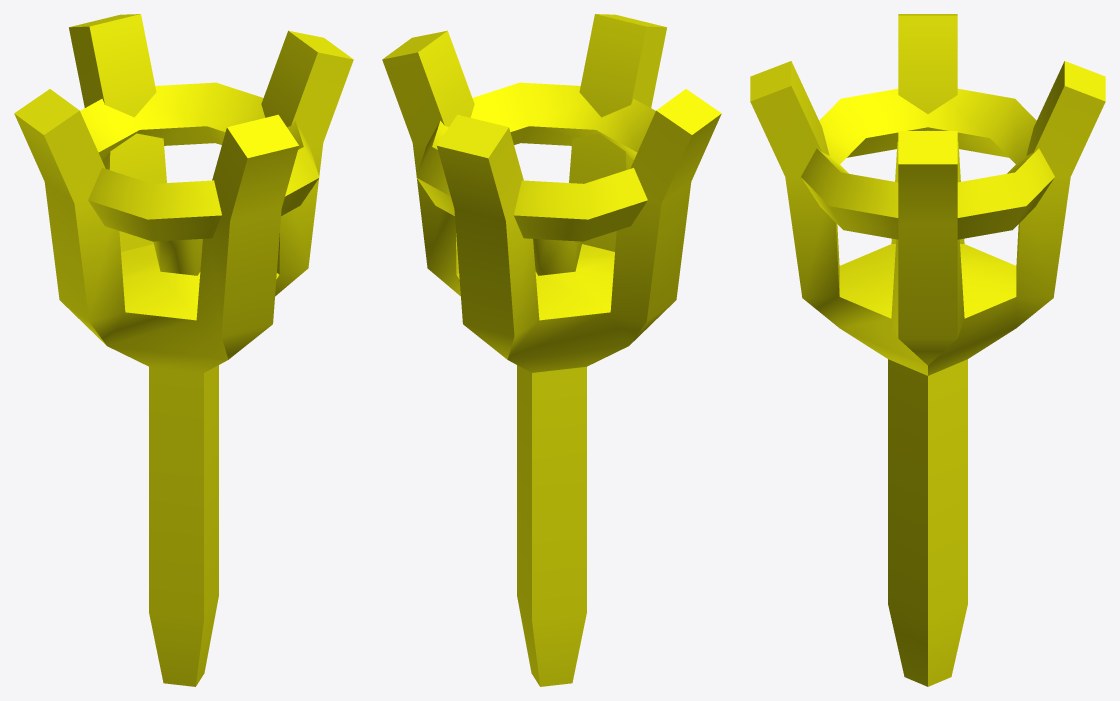
Rendered from kaykit-dungeonremastered-torch.glb.
3 views of the same model, side by side, from view 1: azimuth 30°, elevation 25°; view 2: azimuth 150°, elevation 25°; view 3: azimuth 270°, elevation 25° (orthographic).
Visible parts, largest first — view 1: torch; view 2: torch; view 3: torch.
Part boxes in pixels (box(x1,y1,x2,y2)): torch: box(14, 14, 353, 686); torch: box(382, 14, 721, 686); torch: box(750, 14, 1105, 686).
Bounding box in the file's own units: 0.5503 × 1.04 × 0.5503.
